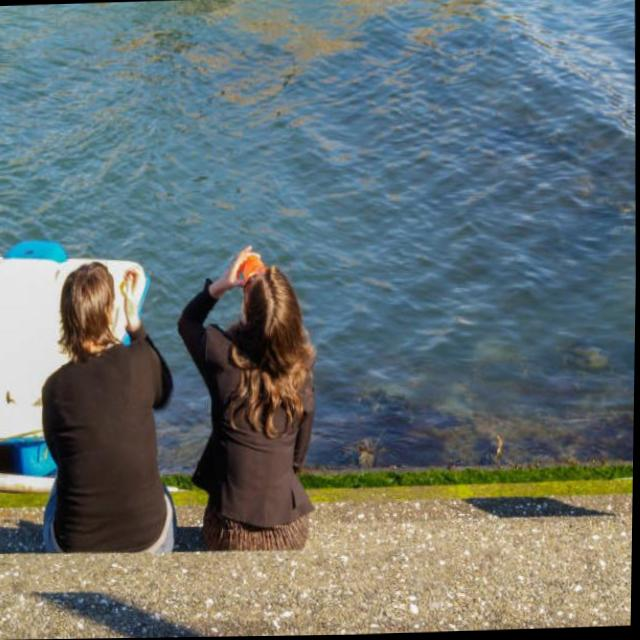no helmet: (209, 241, 323, 415), (48, 260, 135, 362)
